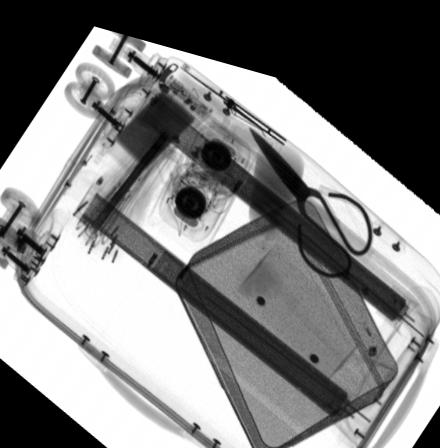Knife: (178, 52, 290, 133)
Powerbank: (98, 60, 212, 177)
Scissors: (245, 106, 373, 257)
